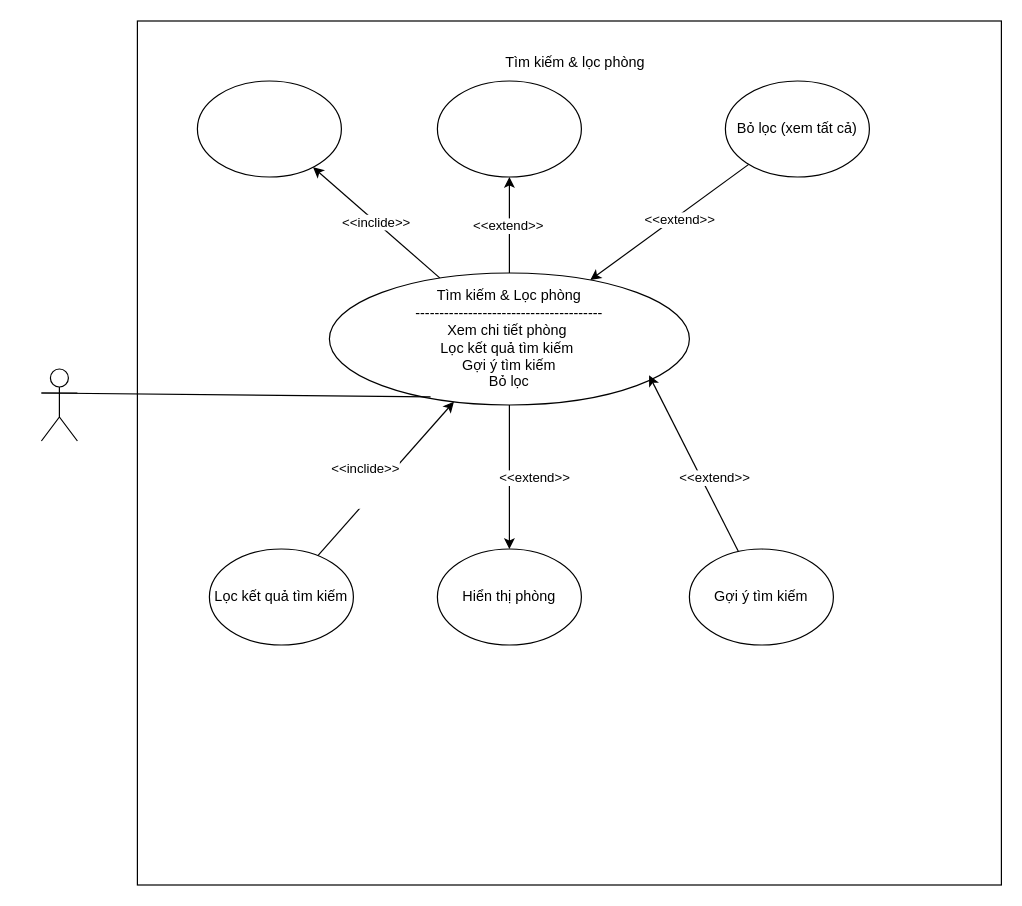
This 1022x906 diagram has some shape labels left out. Each missing label, with the centre of its shape:
Khách hàng: the point at 58,404
Nhập mã phòng: the point at 268,128
Xem chi tiết phòng: the point at 508,128
